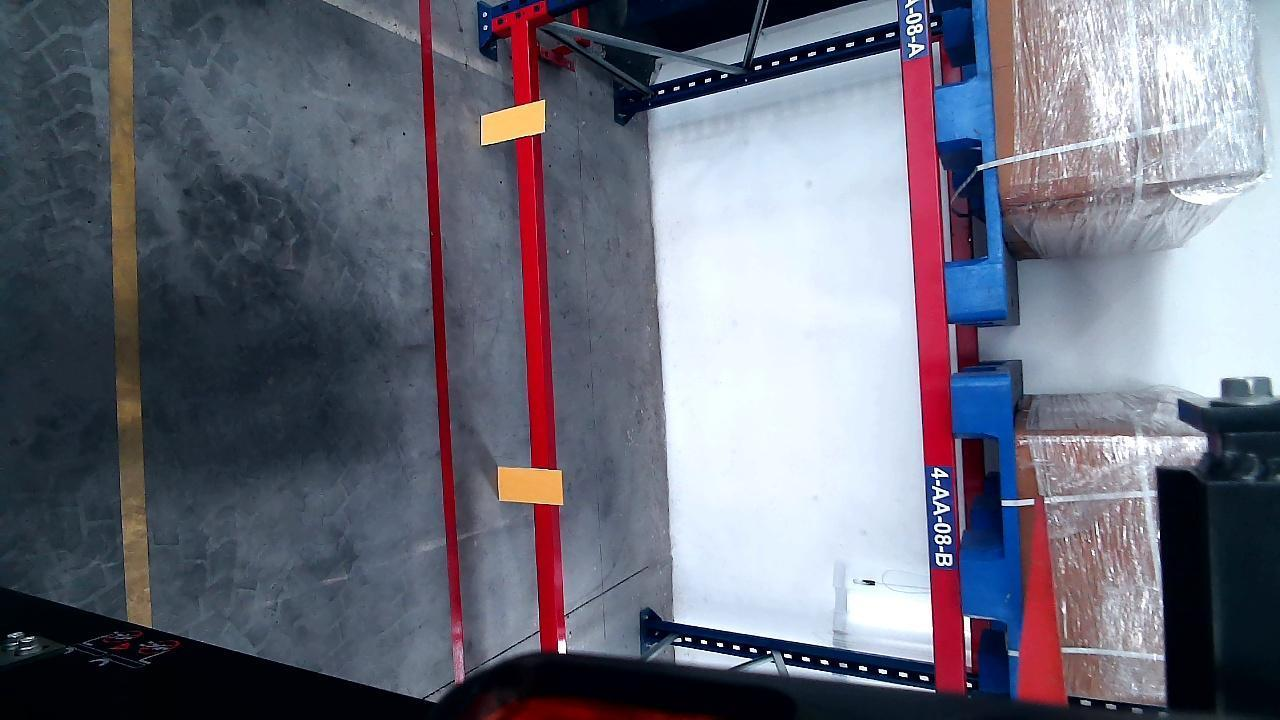h_rack: (897, 0, 963, 679), (509, 16, 564, 665), (484, 23, 524, 658)
orange_strip: (480, 100, 546, 144), (497, 466, 563, 504)
red_line: (423, 3, 459, 674), (1018, 381, 1061, 677)
small_pallet: (926, 0, 1007, 323), (957, 376, 1031, 687)
yellow_line: (107, 0, 151, 627)
